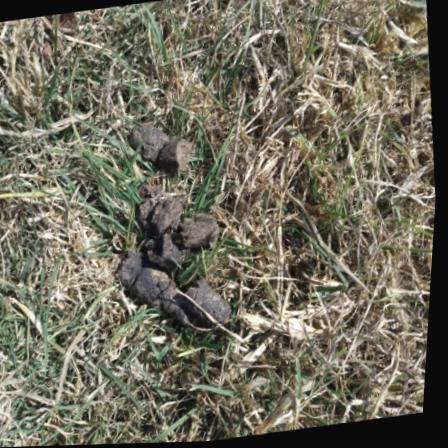dog-poop: (95, 106, 256, 366)
